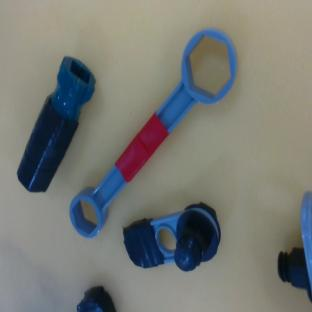part_1_bad: (119, 199, 228, 285)
part_1_good: (277, 191, 312, 302)
part_2_bad: (7, 54, 103, 198)
part_3_bad: (77, 286, 116, 311)
part_3_good: (43, 19, 255, 243)
